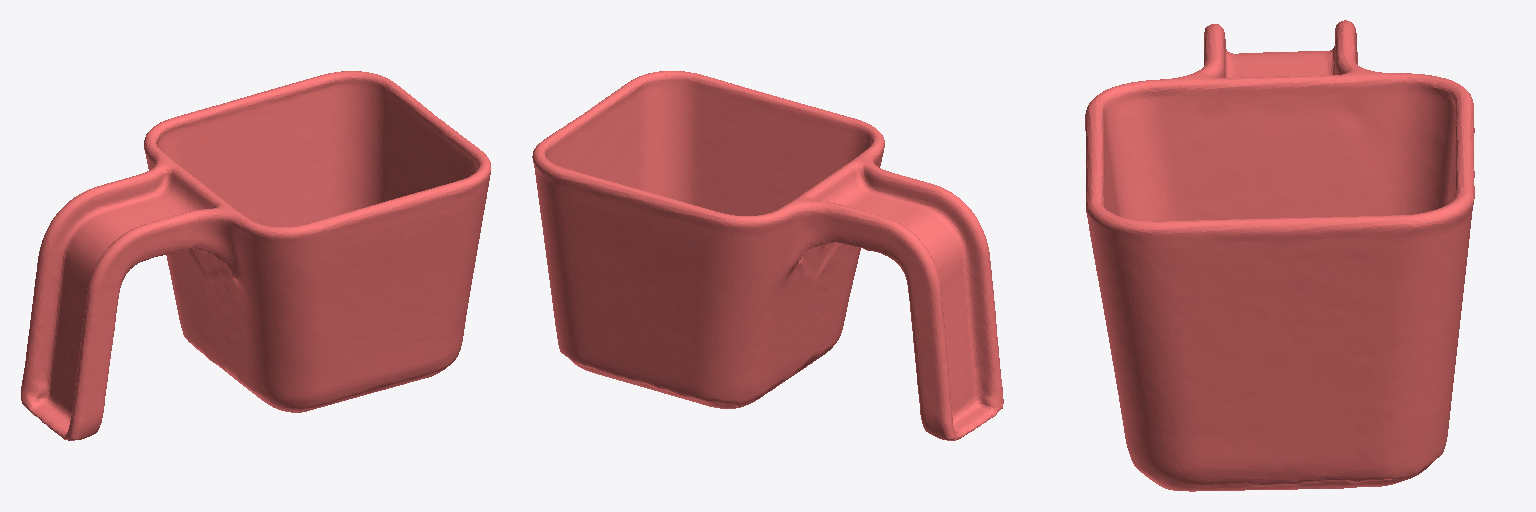
robot.urdf — model.urdf:
<robot name="model.urdf">
    <link name="baseLink">
        <contact>
            <lateral_friction value="0.45"/>
            <rolling_friction value="1"/>
            <spinning_friction value="1"/>
            <contact_cfm value="0.0"/>
            <contact_erp value="1.0"/>
        </contact>
        <inertial>
            <origin rpy="0.0 -0.02 1.6" xyz="0.015 0.0 0"/>
            <mass value="0.5"/>
            <inertia ixx="1e-3" ixy="0" ixz="0" iyy="1e-3" iyz="0" izz="1e-3"/>
        </inertial>
        <visual>
            <geometry>
                <mesh filename="nontextured.stl" scale="1 1 1"/>
            </geometry>
            <material name="black">
                <color rgba="1.0 0.5 0.5 1"/>
            </material>
        </visual>
        <collision>
            <geometry>
                <mesh filename="nontextured.stl" scale="1 1 1"/>
            </geometry>
        </collision>
    </link>
</robot>

--- Render facts (derived) ---
Views: 3 orthographic renders of the robot side by side, from view 1: azimuth 30°, elevation 25°; view 2: azimuth 150°, elevation 25°; view 3: azimuth 270°, elevation 25°.
Model model.urdf with 1 links and 0 joints (none), rooted at baseLink, posed every joint at zero.
Links seen in each view (by area): view 1: baseLink; view 2: baseLink; view 3: baseLink.
Boxes of the visible links, x1,y1,x2,y2 form: baseLink: (21,71,490,440); baseLink: (532,71,1003,440); baseLink: (1085,20,1474,491).
Size in the robot's own frame: 0.129 by 0.0812 by 0.0704 metres.
1 mesh visuals loaded from 1 distinct referenced files (1 binary STL).